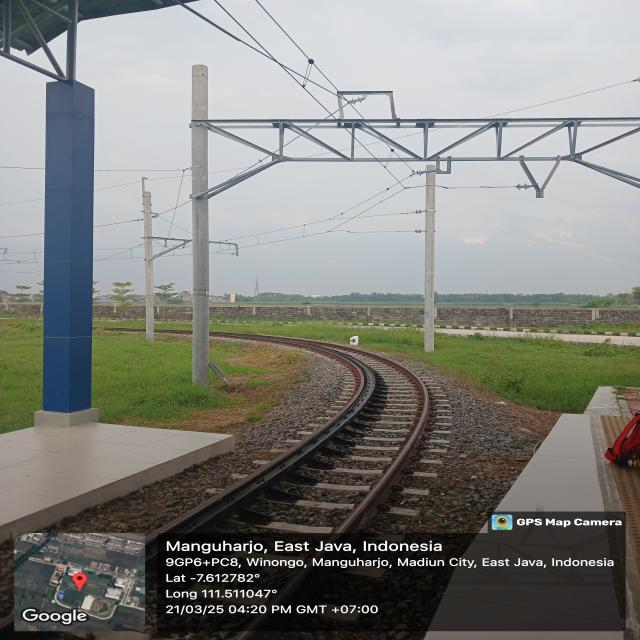rail-detection: (145, 333, 379, 570), (329, 350, 429, 540), (279, 558, 312, 602)
